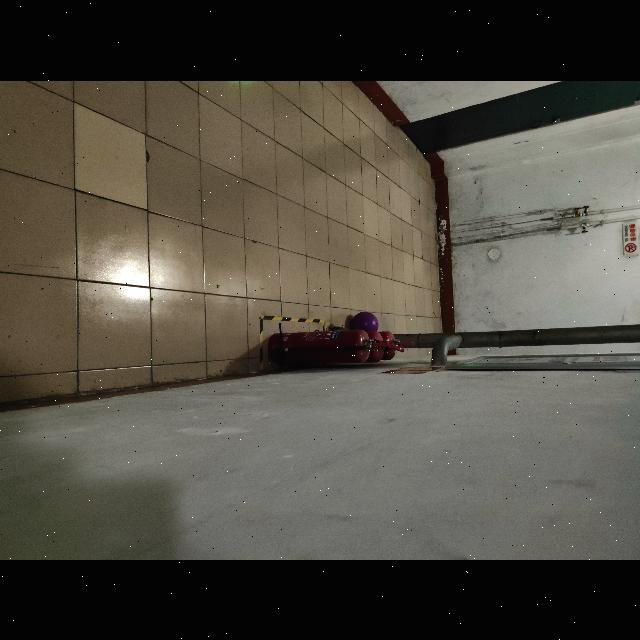P: (351, 311, 379, 337)
